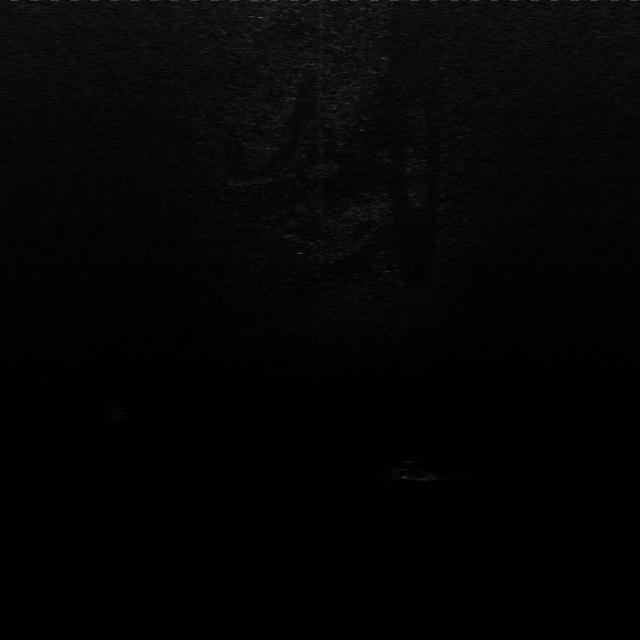tyre: (390, 456, 444, 485)
